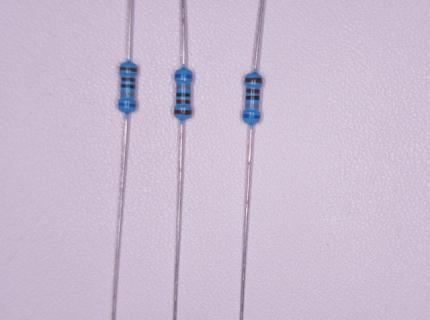Black band: (245, 95, 260, 100), (176, 92, 191, 97), (121, 84, 135, 89)
Blue band: (175, 73, 193, 79), (242, 114, 260, 119), (118, 103, 136, 107)
Brown band: (174, 109, 192, 115), (244, 77, 262, 83), (119, 67, 138, 72), (121, 77, 135, 82), (176, 99, 190, 104), (246, 88, 260, 93)
Grey band: (245, 104, 260, 109), (120, 92, 135, 97), (177, 84, 191, 89)
